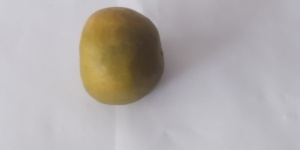BAD: (78, 5, 164, 107)
